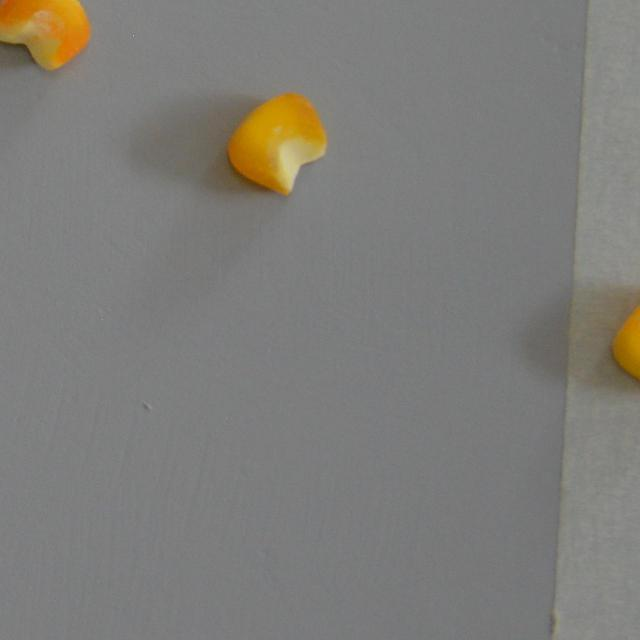no_canjicado: (228, 92, 326, 196)
pelicula: (0, 0, 91, 71)
